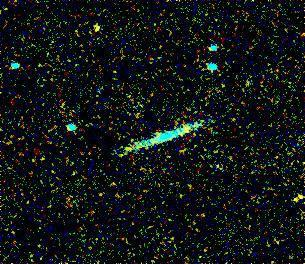star: (174, 113, 204, 143)
